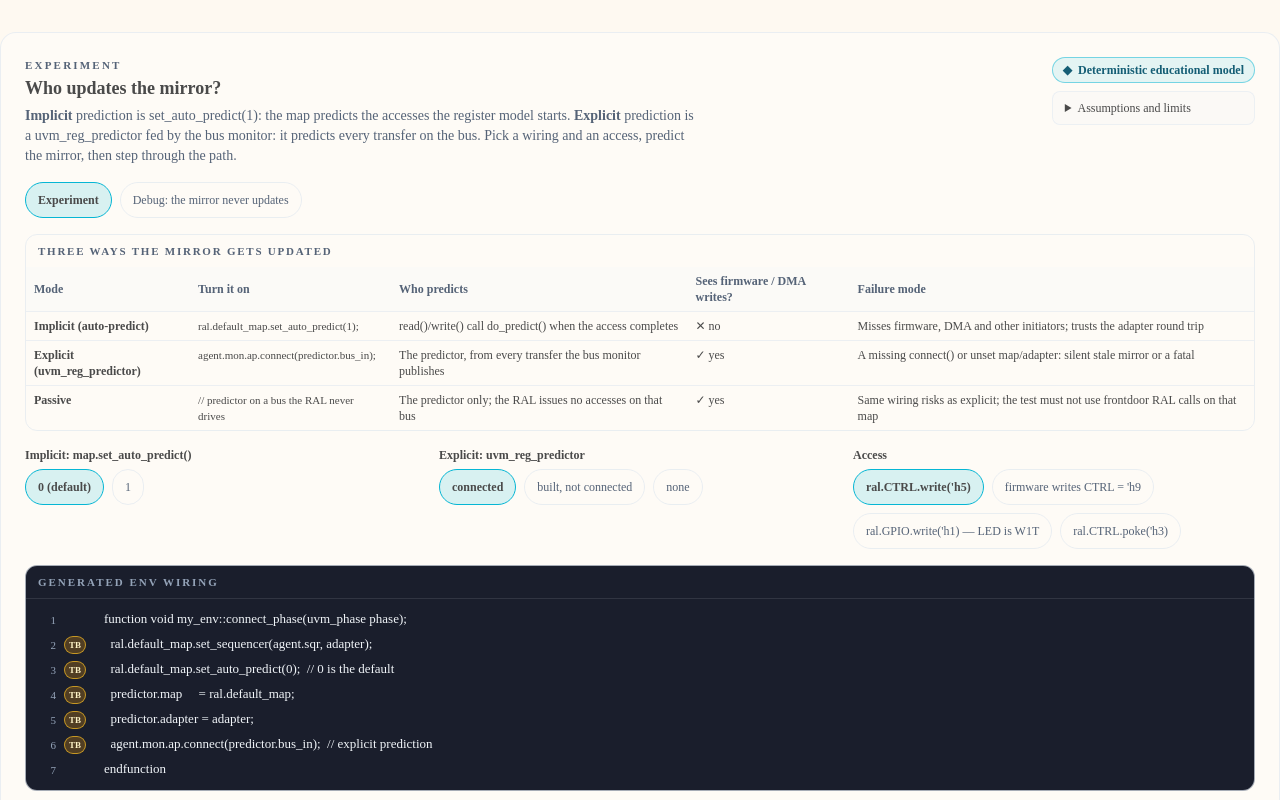
Test: RALPredictorVisualizer (model: src/lib/ral-model.ts predictionPath) › auto-predict cannot see a firmware write; only the explicit predictor can
Click the radio button labelled "1".
click(128, 486)  # box [112,468,144,504]
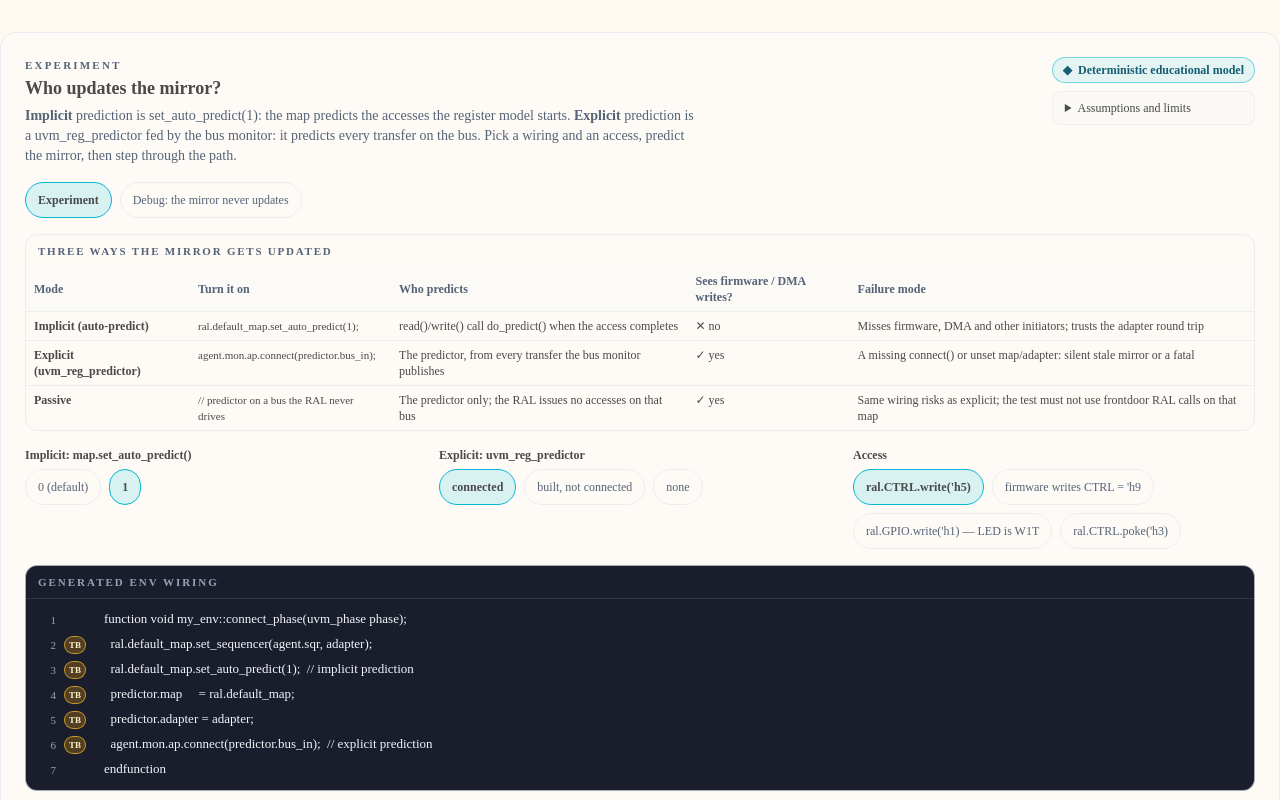
Click the radio button labelled "none".
click(678, 486)  # box [653,468,703,504]
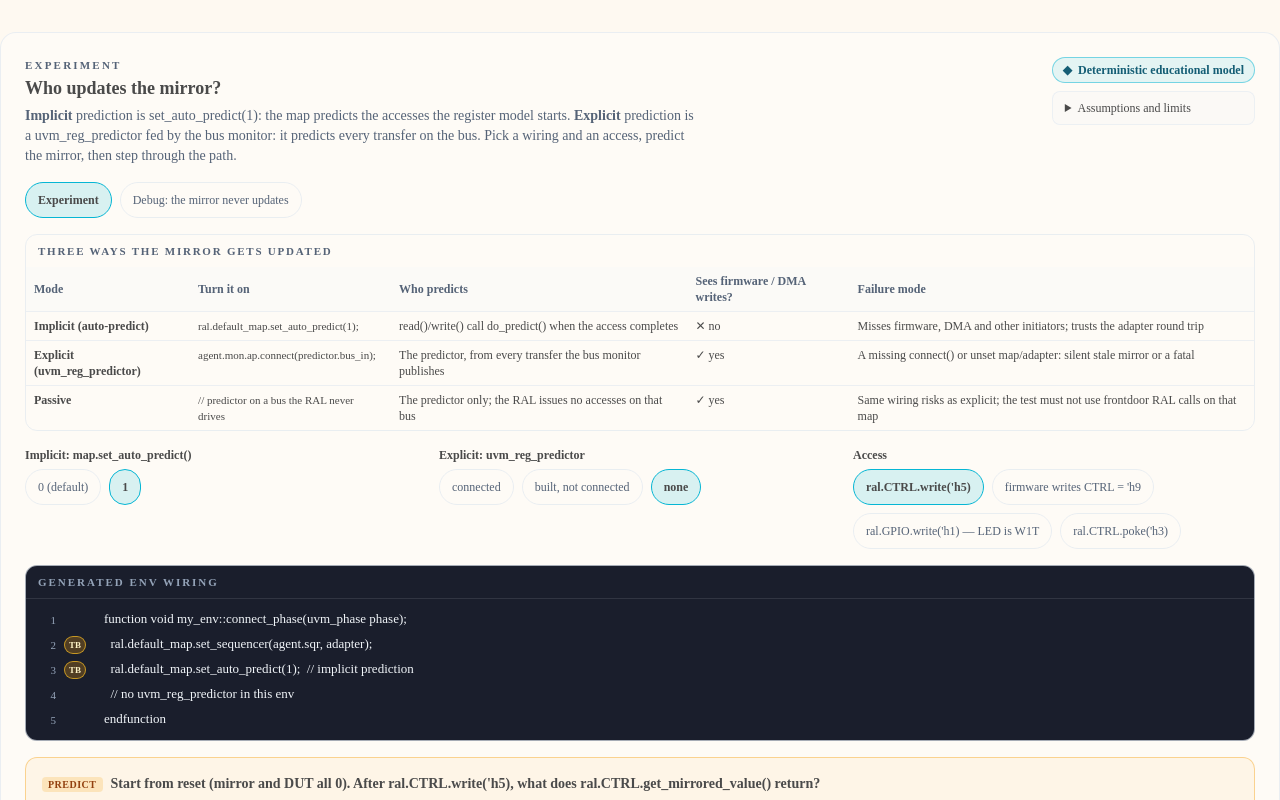
Click the radio button labelled "firmware writes CTRL = 'h9".
click(1073, 486)  # box [992,468,1154,504]
(page scrolled)
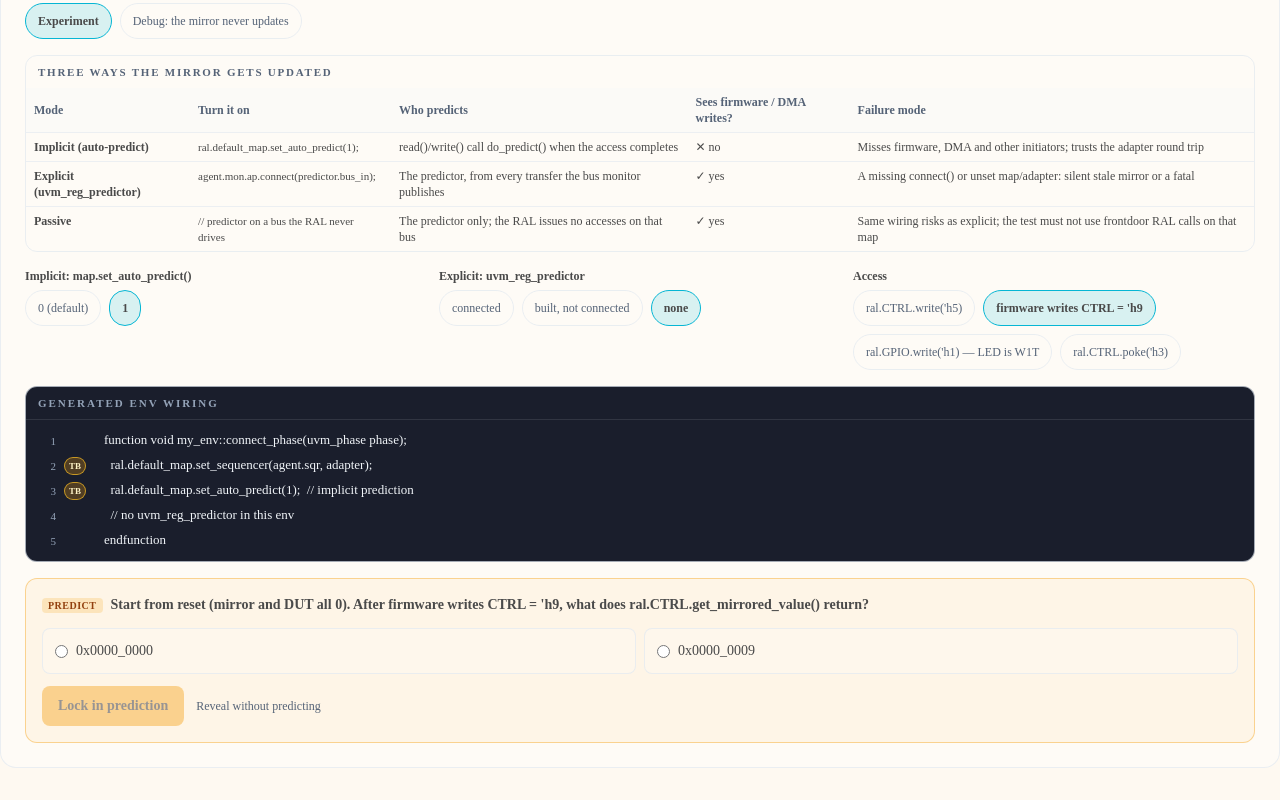
Click the radio button labelled "0x0000_0000".
click(62, 652)  # box [55,645,68,658]
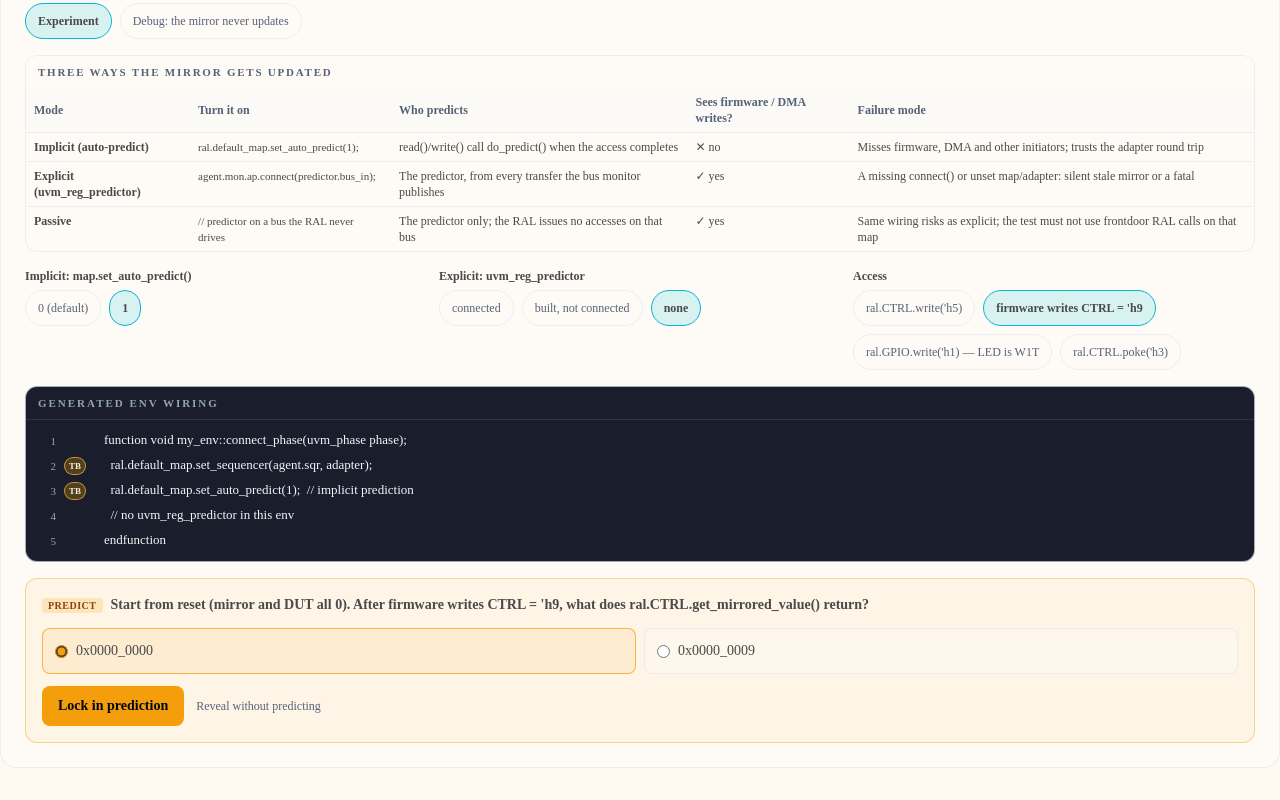
Click the button "Lock in prediction".
click(113, 706)  # box [42,686,184,726]
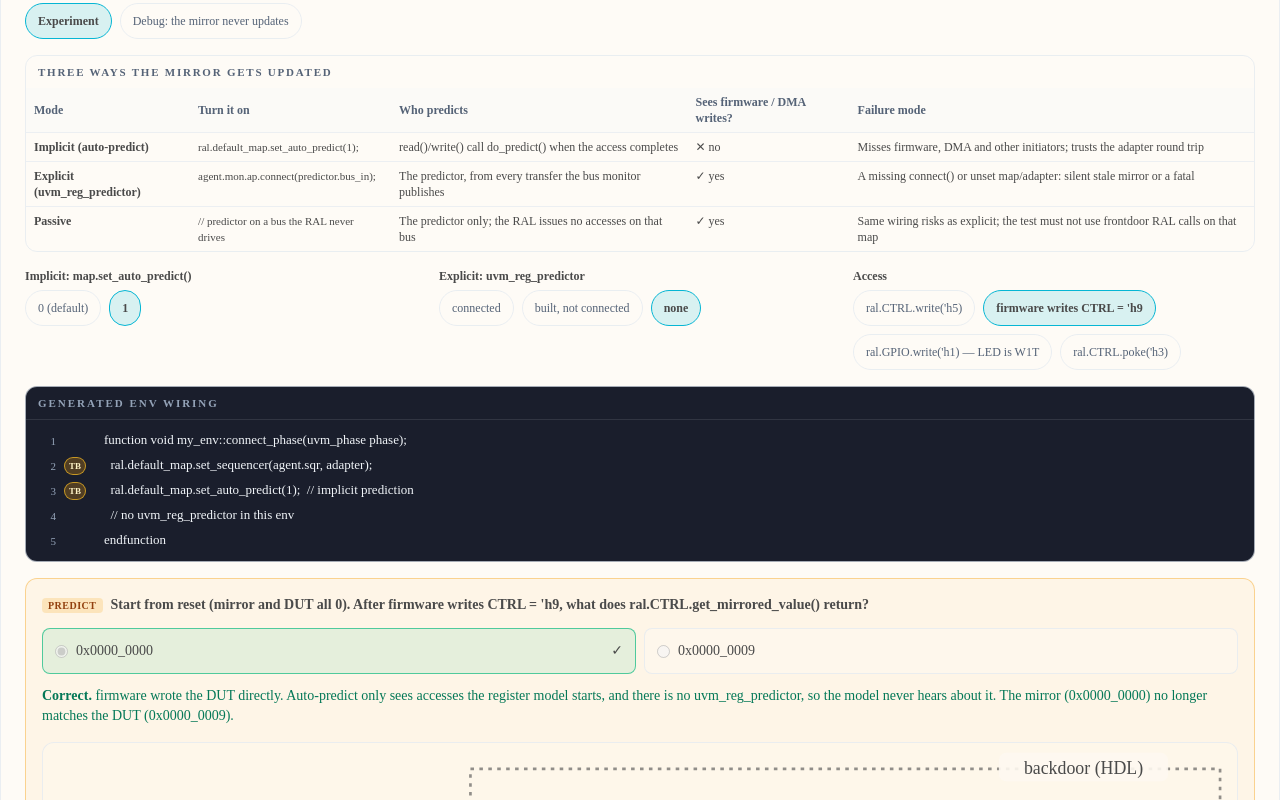
Result: the text "Correct." is shown at [42,688,95,703]
